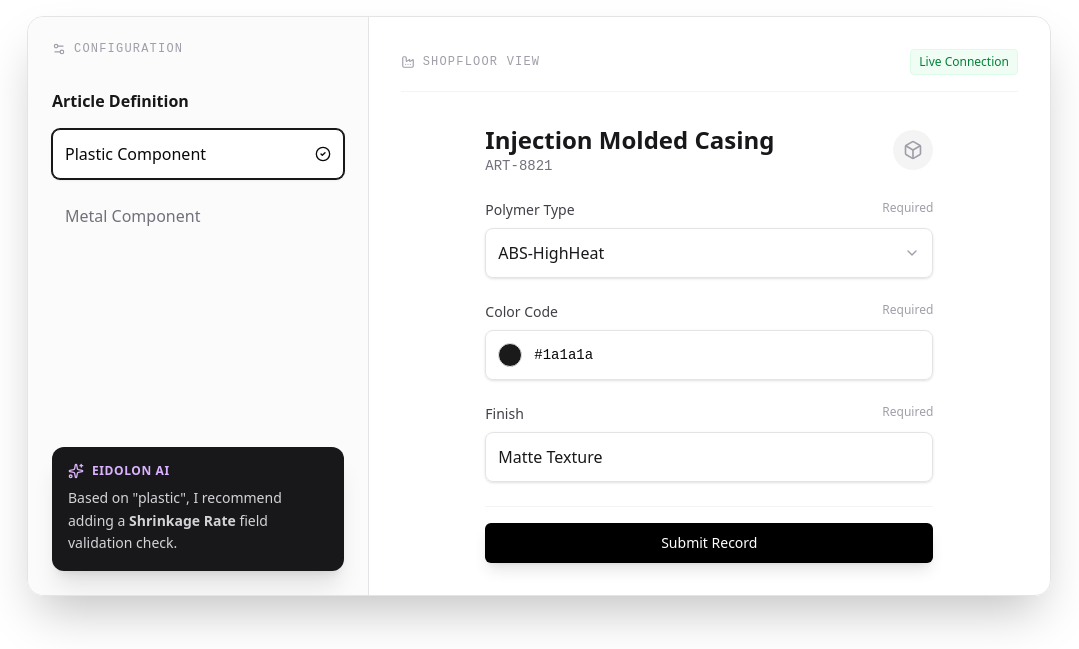
Test: InteractiveDemo › switches to metal component when clicked
Click the button "Metal Component".
click(198, 216)  # box [52,191,344,241]
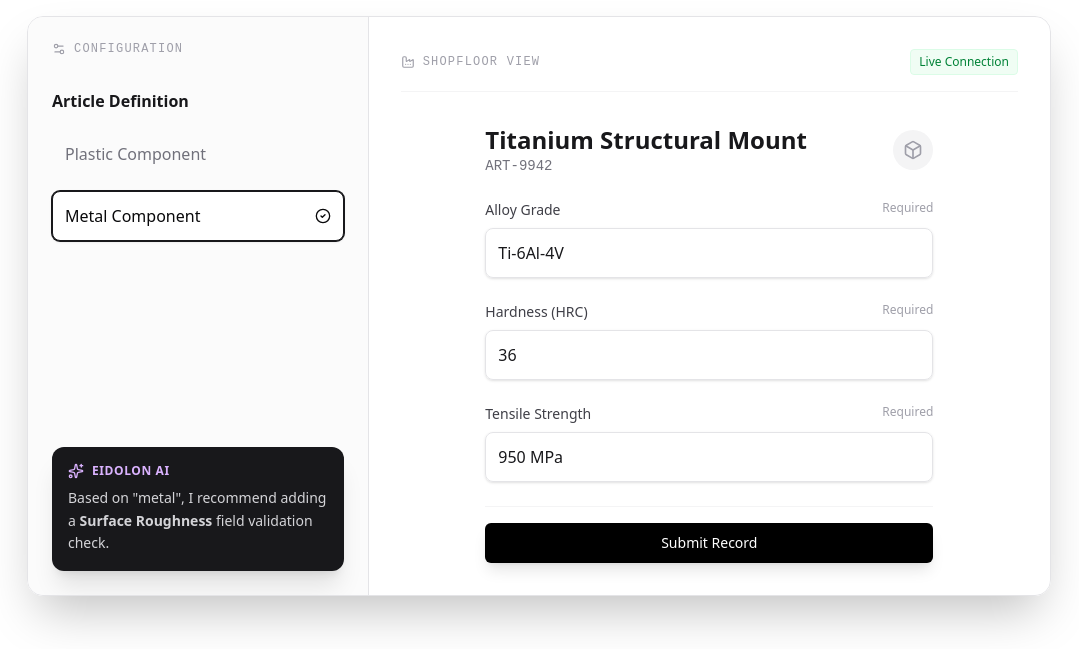
Now the heading "Titanium Structural Mount" is shown, box [485,124,807,156]
Now the text "ART-9942" is shown, box [485,158,552,174]
Now the text "Alloy Grade" is shown, box [485,200,560,219]
